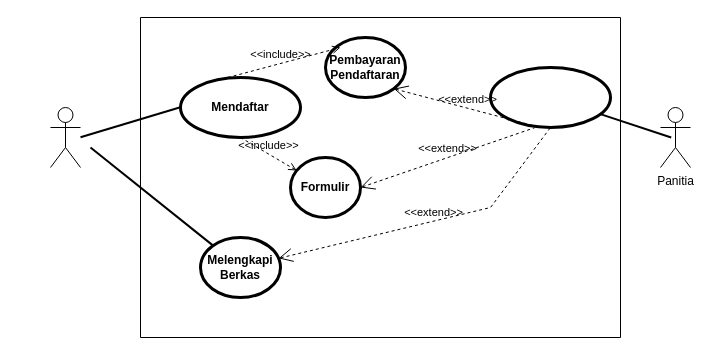
This 711x355 diagram has some shape labels left out. The shapes that lost their labels are listed below. From the top down, each one's centre as x and y in pixels, then its label:
At (550,97): "Pengeckan".
At (65,137): "Calon Siswa-siswi".
